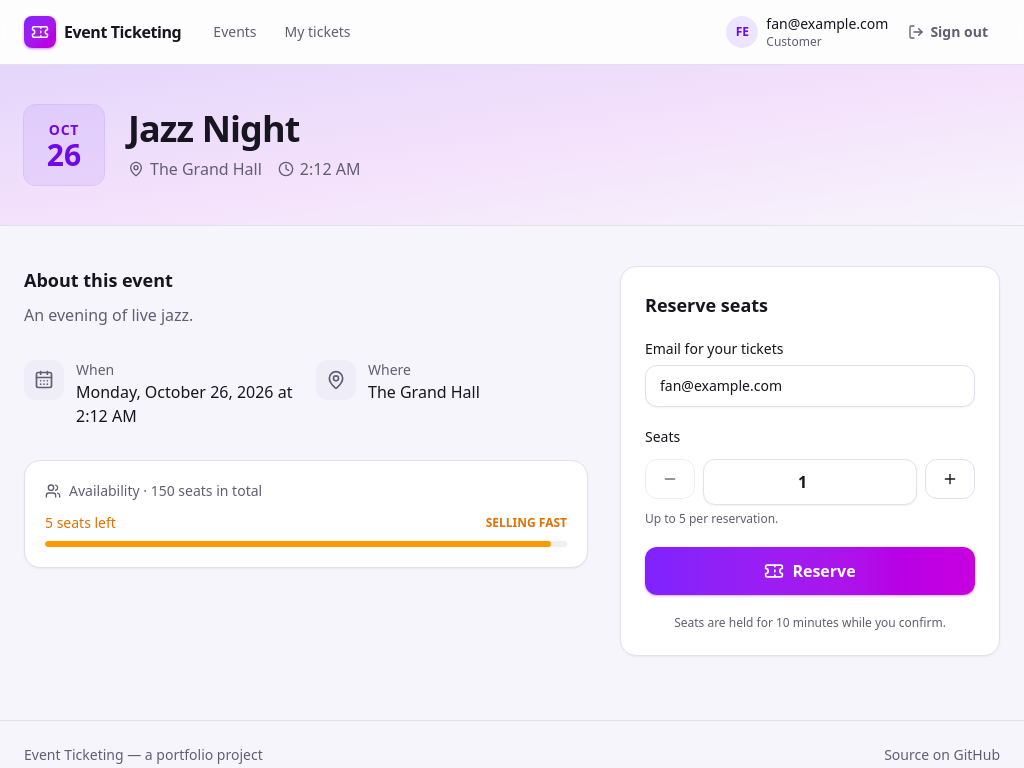
EventDetailPage › lets a customer reserve seats and takes them to the held reservation
Expected: the field labelled "Email for your tickets" holds "fan@example.com", [645,365,975,407]
Replace the text in the number field named "Seats" with "2" at [810, 482], box [703,459,917,505]
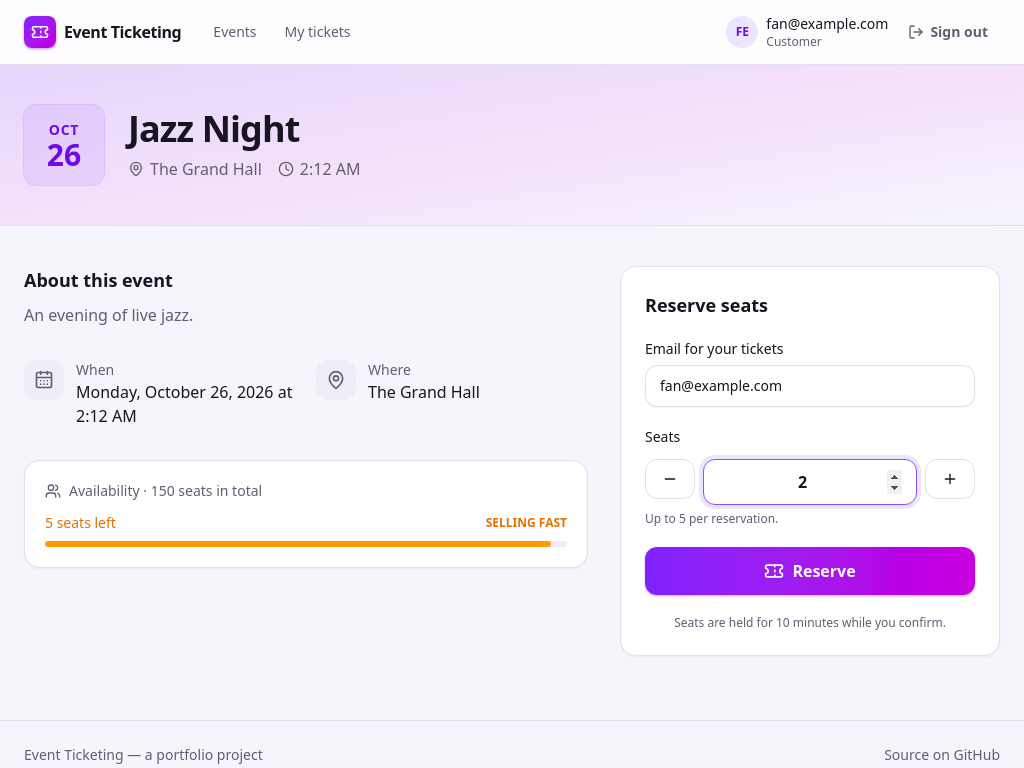
Click the button "Reserve".
click(810, 571)  # box [645,547,975,595]
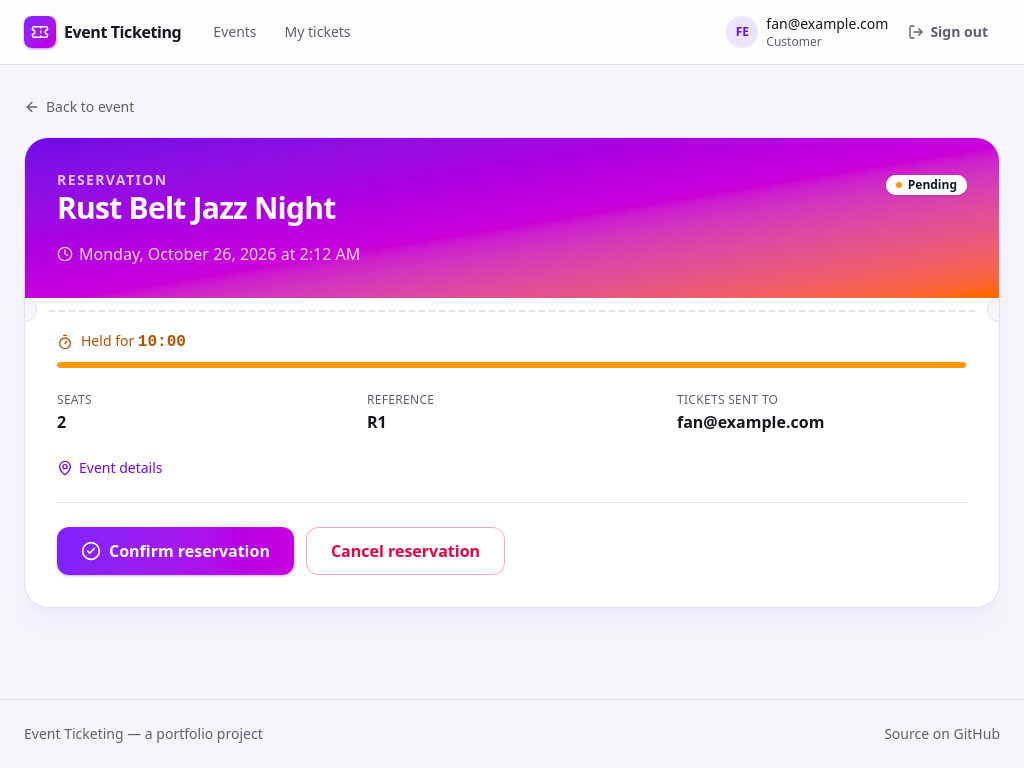
Result: the heading "Reservation Rust Belt Jazz Night" is shown at [57,170,336,226]
Result: the text "Held for 10:00" is shown at [81,330,186,354]
